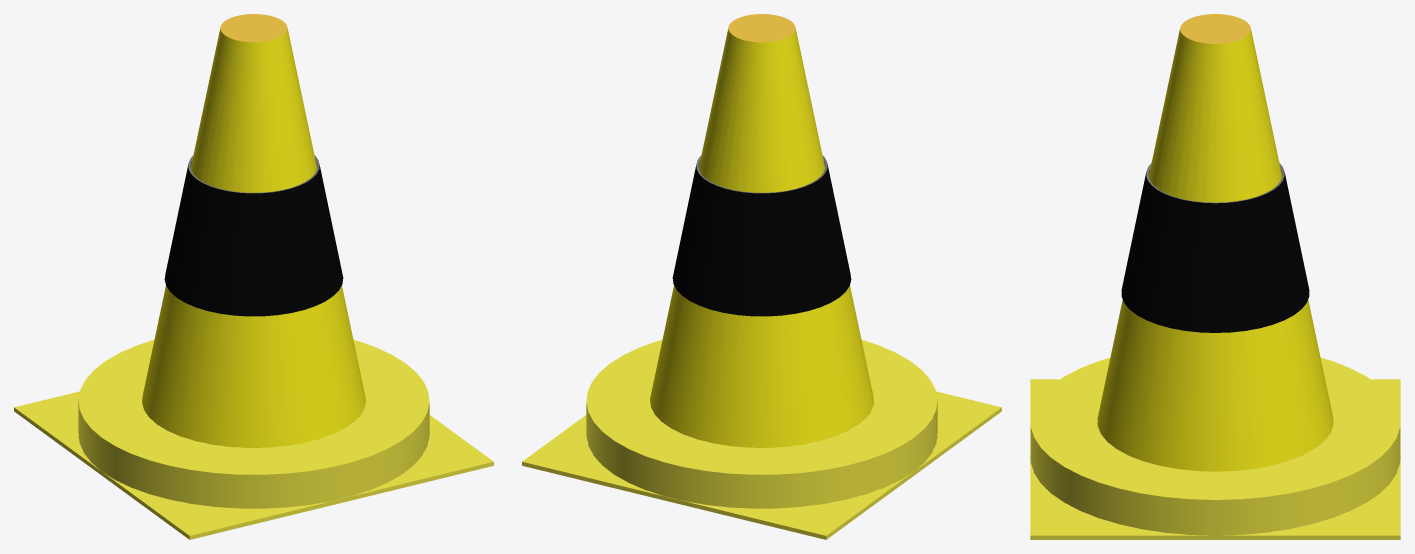
File: yellow_cone.dae
The picture shows the model from 3 angles, left to right: view 1: azimuth 30°, elevation 25°; view 2: azimuth 150°, elevation 25°; view 3: azimuth 270°, elevation 25°; orthographic projection. The views are drawn at different scales.
Visible parts, largest first — view 1: 634a82fdc4705c6eb7c73b5b (×6); view 2: 634a82fdc4705c6eb7c73b5b (×6); view 3: 634a82fdc4705c6eb7c73b5b (×7).
Part boxes in pixels (box(x1,y1,x2,y2)): 634a82fdc4705c6eb7c73b5b (×6): box(14, 14, 493, 539); 634a82fdc4705c6eb7c73b5b (×6): box(522, 14, 1001, 539); 634a82fdc4705c6eb7c73b5b (×7): box(1030, 14, 1400, 539).
Size of the model in its own units: 0.235 by 0.235 by 0.303.
